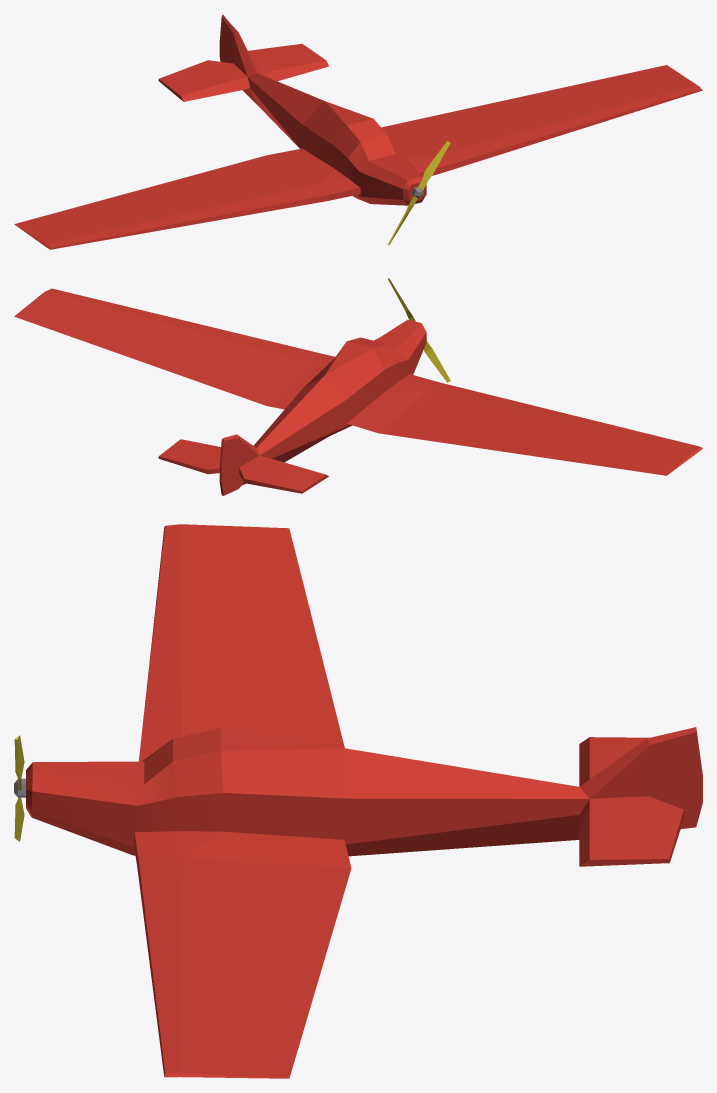
The model's file is traffic-glider.glb.
3 renders of one model, top to bottom at view 1: azimuth 30°, elevation 25°; view 2: azimuth 150°, elevation 25°; view 3: azimuth 270°, elevation 25°, orthographic. The views are drawn at different scales.
Visible parts, largest first — view 1: glider; view 2: glider; view 3: glider.
Boxes of the visible parts, left/top/right/bottom form: glider: left=14, top=14, right=702, bottom=249; glider: left=14, top=278, right=702, bottom=495; glider: left=14, top=524, right=702, bottom=1078.
Size of the model in its own units: 499 by 65.76 by 263.
